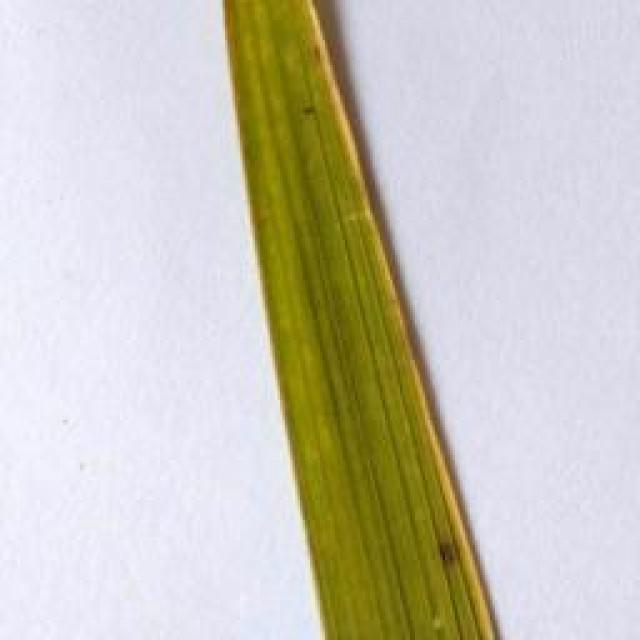Bacterial_Blight: (277, 305, 612, 640)
Brown_Spot: (434, 519, 463, 580), (296, 102, 323, 128)
